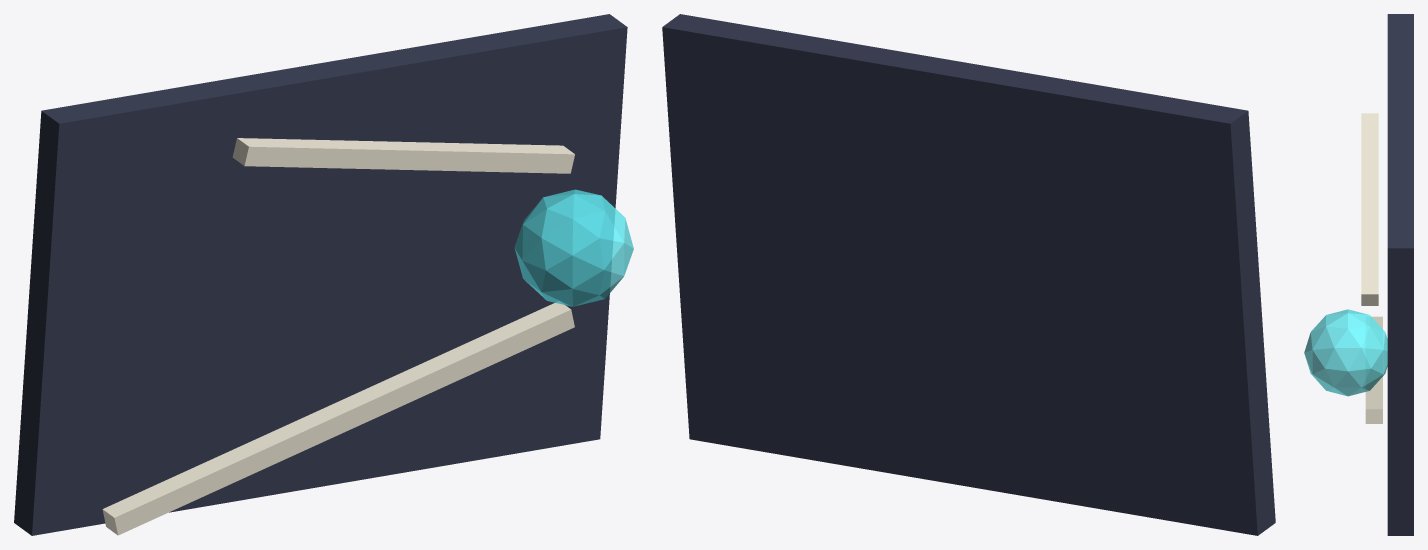
The model's file is 02_world_prop_polish.glb.
The picture shows the model from 3 angles, left to right: view 1: azimuth 30°, elevation 25°; view 2: azimuth 150°, elevation 25°; view 3: azimuth 270°, elevation 25°; orthographic projection. The views are drawn at different scales.
Parts seen in each view (by area): view 1: object_overlay_plate, edge_wear_a, glow_socket, edge_wear_b; view 2: object_overlay_plate; view 3: object_overlay_plate, glow_socket, edge_wear_b, edge_wear_a.
Boxes of the visible parts, x1,y1,x2,y2 form: object_overlay_plate: [14, 14, 627, 535]; edge_wear_a: [102, 301, 574, 535]; glow_socket: [514, 189, 633, 306]; edge_wear_b: [232, 138, 574, 173]; object_overlay_plate: [662, 14, 1275, 535]; object_overlay_plate: [1387, 14, 1413, 535]; glow_socket: [1304, 309, 1387, 396]; edge_wear_b: [1361, 113, 1378, 305]; edge_wear_a: [1365, 316, 1382, 423].
Bounding box in the file's own units: 1.15 × 0.8256 × 0.25.
